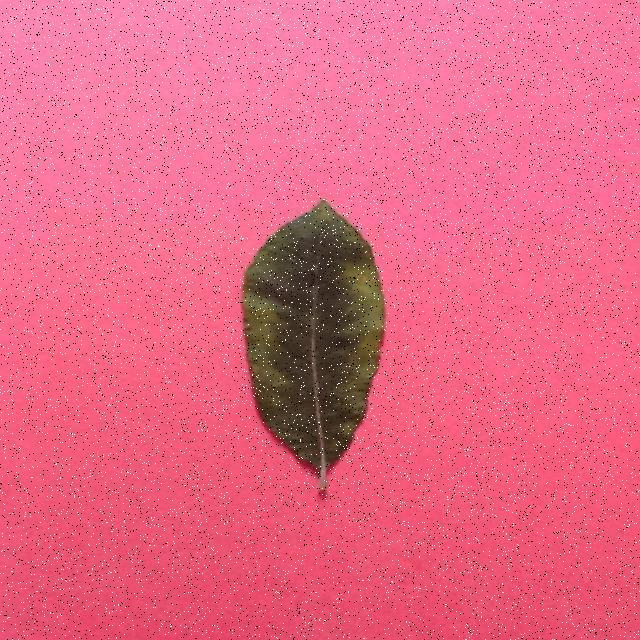foliage: (243, 197, 389, 499)
